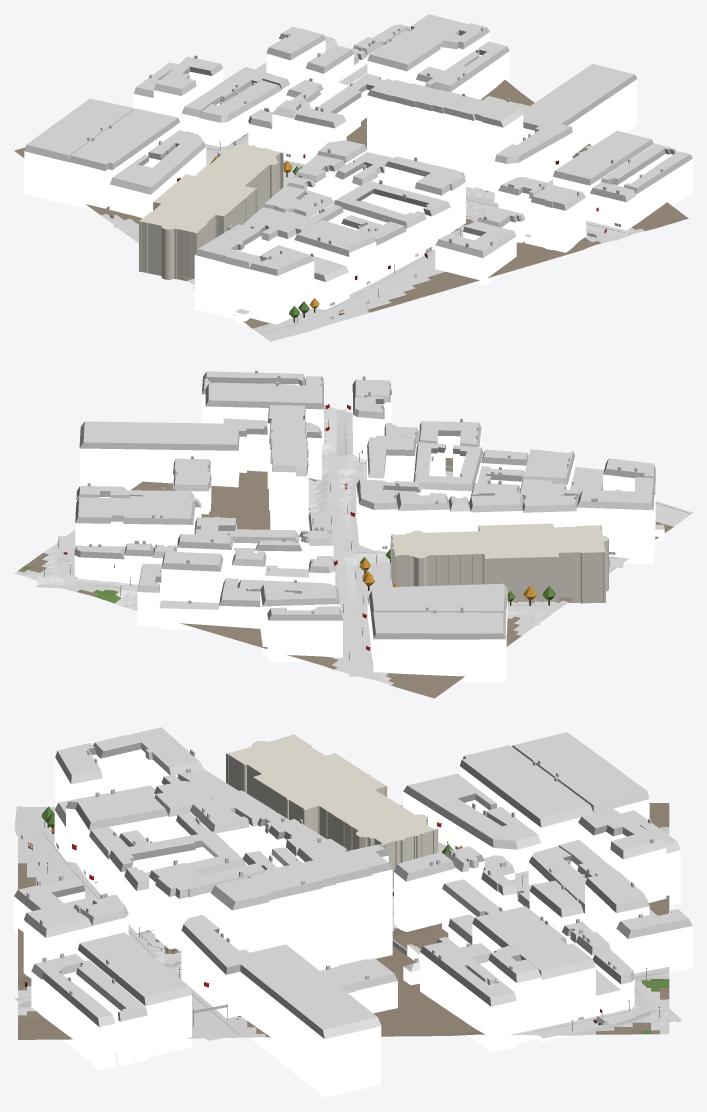
The model's file is zone_E3.glb.
3 views of the same model, one above another, from view 1: azimuth 30°, elevation 25°; view 2: azimuth 150°, elevation 25°; view 3: azimuth 270°, elevation 25° (orthographic). The views are drawn at different scales.
Parts seen in each view (by area): view 1: zone_E3_batiments, zone_E3_terrain, zone_E3_sol_NOCOL; view 2: zone_E3_batiments, zone_E3_terrain, zone_E3_sol_NOCOL, zone_E3_decor_NOCOL; view 3: zone_E3_batiments, zone_E3_terrain, zone_E3_sol_NOCOL.
Part boxes in pixels (x1,y1,x2,y2): zone_E3_batiments: (24, 14, 692, 326); zone_E3_terrain: (14, 80, 688, 339); zone_E3_sol_NOCOL: (113, 140, 626, 341); zone_E3_batiments: (74, 370, 664, 682); zone_E3_terrain: (14, 404, 687, 698); zone_E3_sol_NOCOL: (35, 408, 692, 676); zone_E3_decor_NOCOL: (44, 420, 609, 660); zone_E3_batiments: (14, 727, 692, 1097); zone_E3_terrain: (18, 803, 669, 1039); zone_E3_sol_NOCOL: (14, 805, 681, 1040).
Bounding box in the file's own units: 248 × 43.8 × 222.
